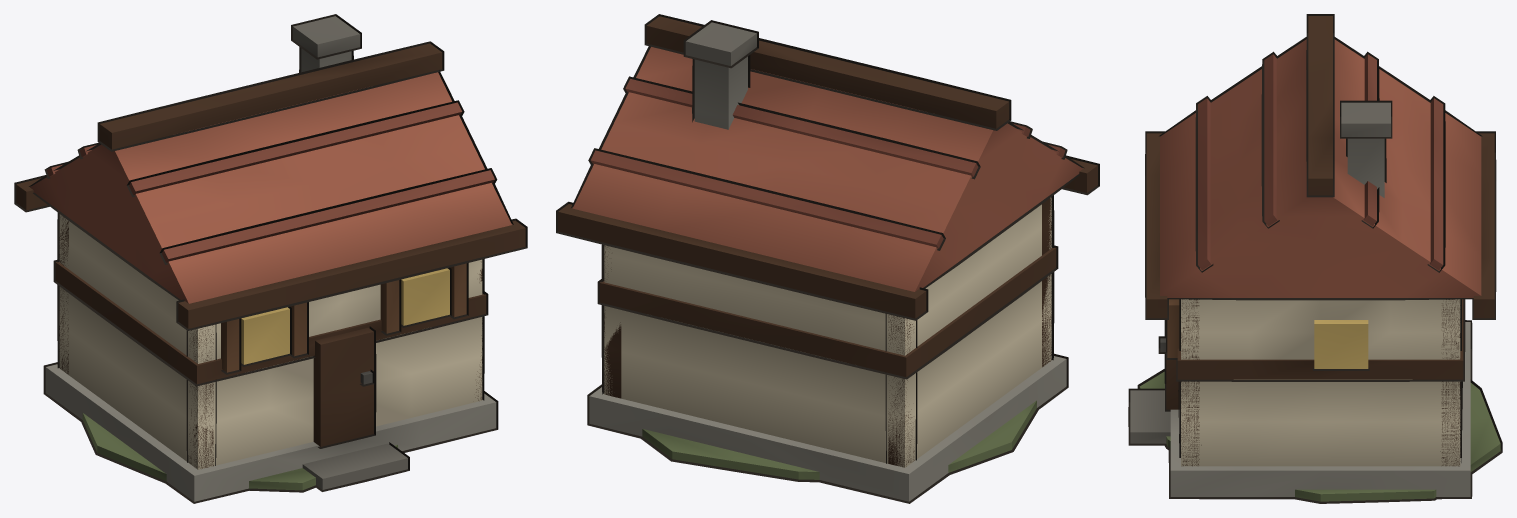
File: maison_grande.glb
3 renders of one model, left to right at view 1: azimuth 30°, elevation 25°; view 2: azimuth 150°, elevation 25°; view 3: azimuth 270°, elevation 25°, orthographic. The views are drawn at different scales.
Visible parts, largest first — view 1: maison_grande, maison_grande_outline; view 2: maison_grande, maison_grande_outline; view 3: maison_grande, maison_grande_outline.
Part boxes in pixels (x1,y1,x2,y2): maison_grande: [16, 16, 525, 501]; maison_grande_outline: [14, 14, 527, 503]; maison_grande: [558, 16, 1097, 501]; maison_grande_outline: [556, 14, 1099, 503]; maison_grande: [1130, 16, 1500, 501]; maison_grande_outline: [1128, 14, 1502, 503].
Size of the model in its own units: 2.26 by 2.17 by 2.1.
